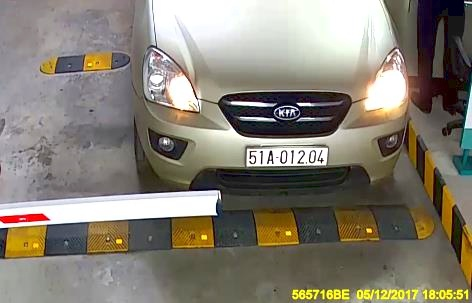plate: (242, 143, 329, 170)
